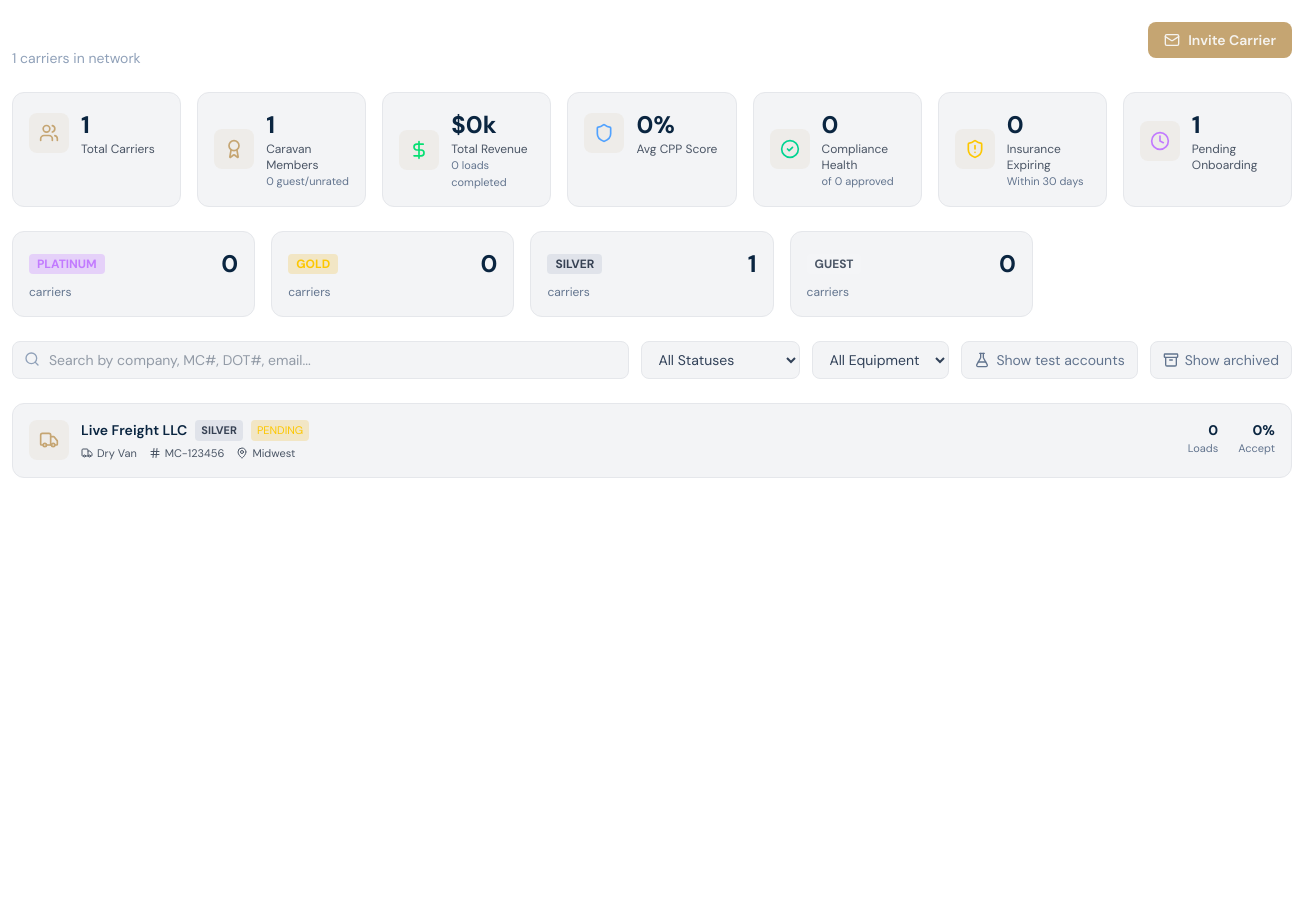
Scenario: Show archived — the badge, the label, the note › the header describes the pool as it stands: showing archived rows changes the list, not the network stats
This screenshot has width=1304, height=912.
Expected: the text "Live Freight LLC" is shown, 81,420 -> 187,440
Expected: the text "1 carriers in network" is shown, 12,48 -> 150,68
What coordinates should you click on to do the following:
click the button "Show archived"
I would click on:
 (1221, 360)
Its box is 1150,341 -> 1292,379.
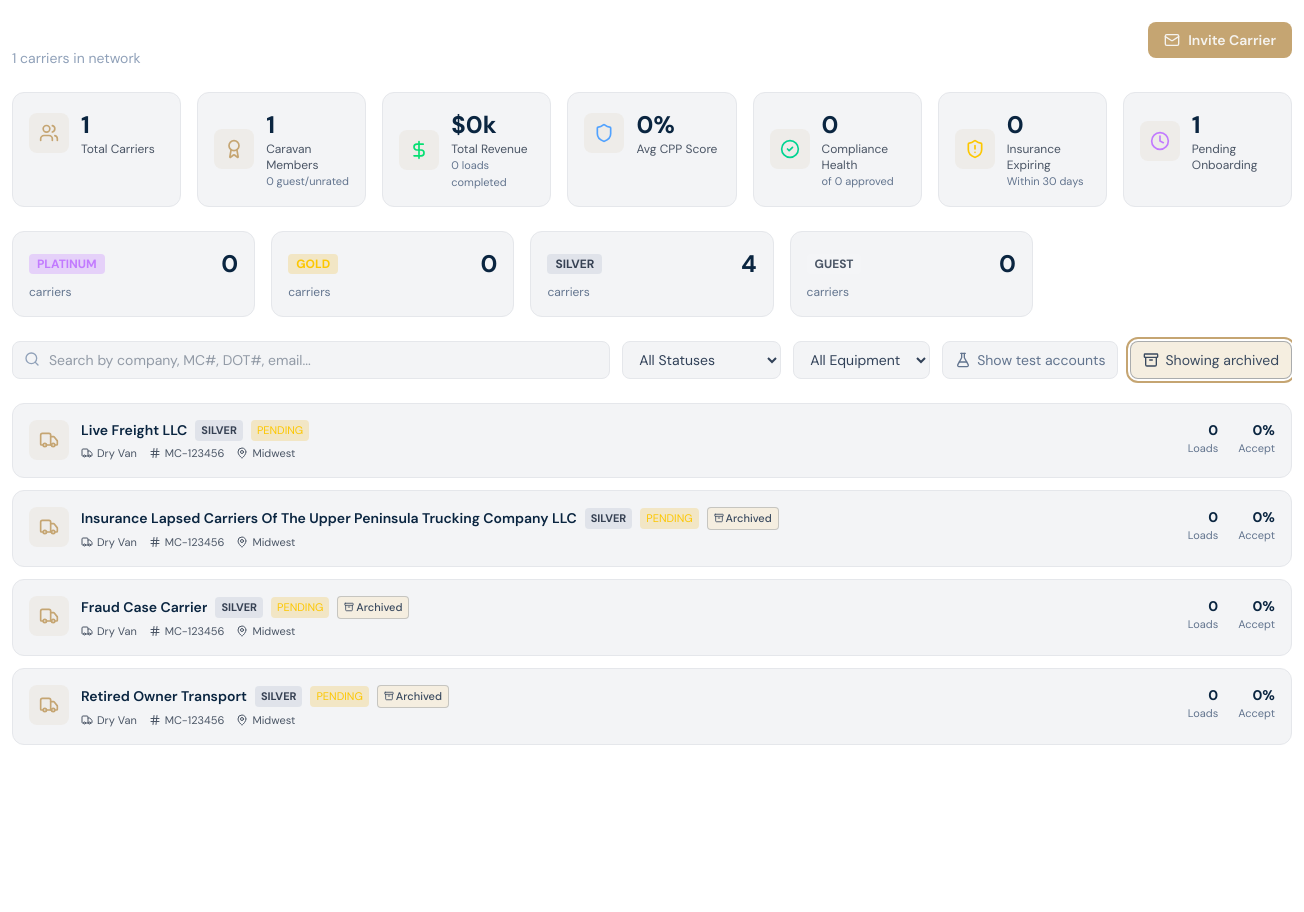
Expected: the text "Insurance Lapsed Carriers Of The Upper Peninsula Trucking Company LLC" is shown, 81,508 -> 577,528
Expected: the button "Insurance Lapsed Carriers Of The Upper Peninsula Trucking Company LLC" is shown, 12,490 -> 1292,567
Expected: the button "Fraud Case Carrier" is shown, 12,579 -> 1292,656
